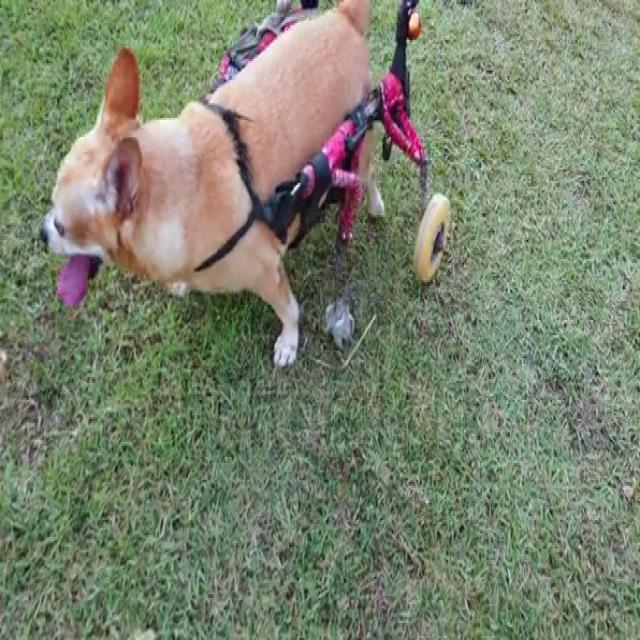injured-animals: (36, 2, 450, 373)
